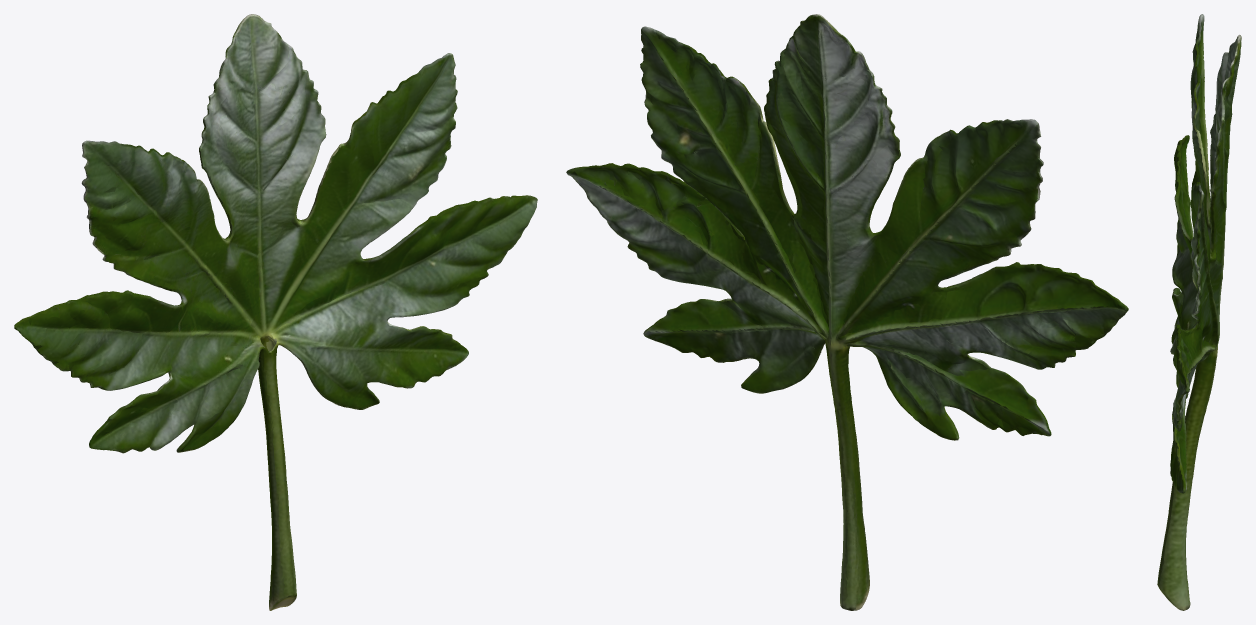
Rendered from lux-fatsia.glb.
The picture shows the model from 3 angles, left to right: view 1: azimuth 30°, elevation 25°; view 2: azimuth 150°, elevation 25°; view 3: azimuth 270°, elevation 25°; orthographic projection. The views are drawn at different scales.
Parts seen in each view (by area): view 1: geometry_0; view 2: geometry_0; view 3: geometry_0.
Part boxes in pixels (box(x1,y1,x2,y2)): geometry_0: box(14, 14, 537, 610); geometry_0: box(566, 14, 1128, 610); geometry_0: box(1157, 14, 1241, 610).
Size of the model in its own units: 0.28 by 0.293 by 0.0391.
1 material, 1 textured.
